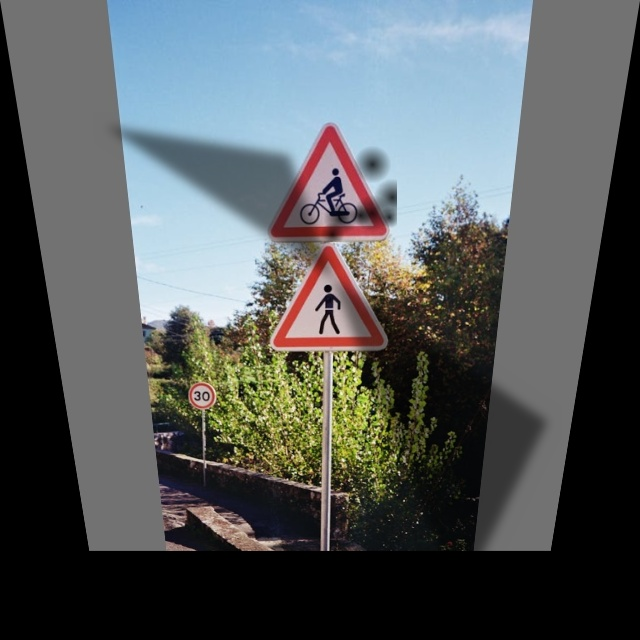Cycle_Crossing: (272, 126, 397, 242)
